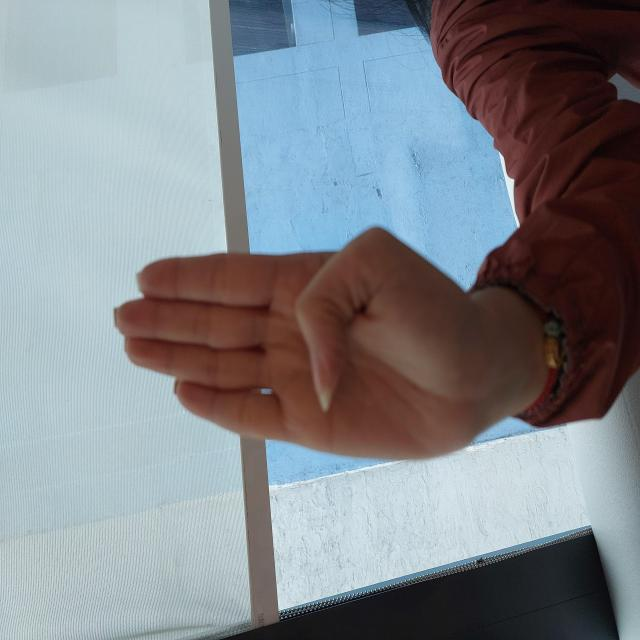B: (177, 110, 418, 488)
